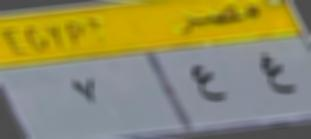7: (66, 73, 104, 115)
ain: (190, 63, 230, 110)
ghayn: (255, 46, 297, 105)
